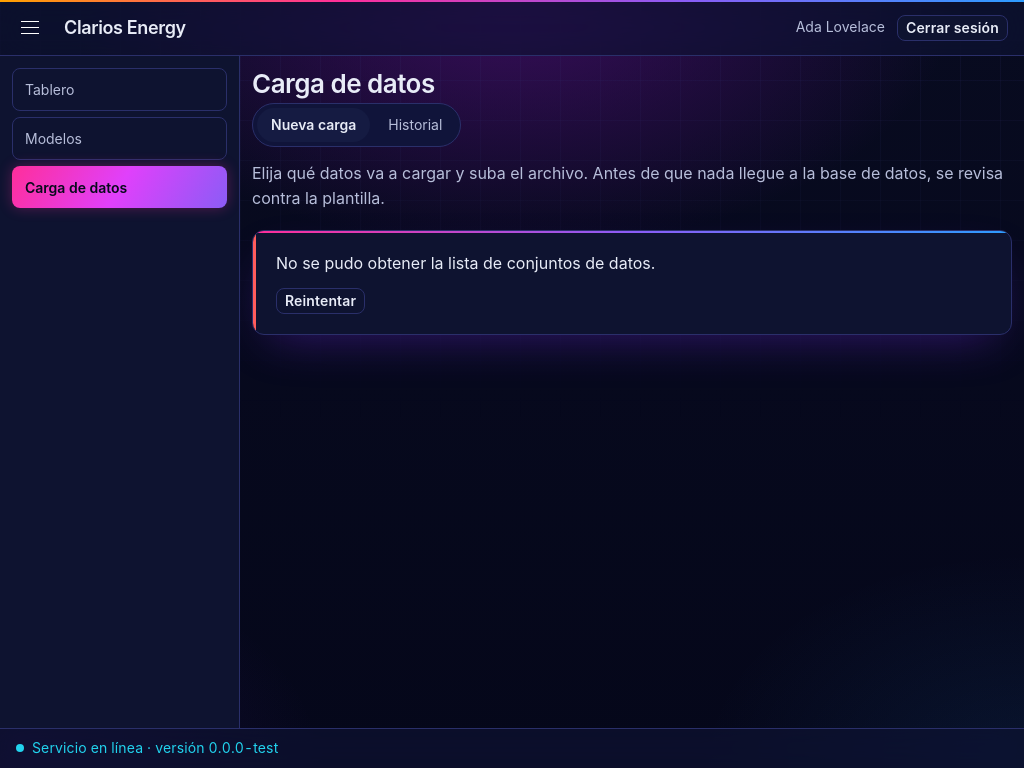
Scenario: choosing what to load › says so when the list of datasets cannot be read, and retries
Expected: the text "No se pudo obtener la lista de conjuntos de datos." is shown, x1=276 y1=252 x2=655 y2=276
Click the button "Reintentar" at (321, 301), box x1=276 y1=288 x2=365 y2=314
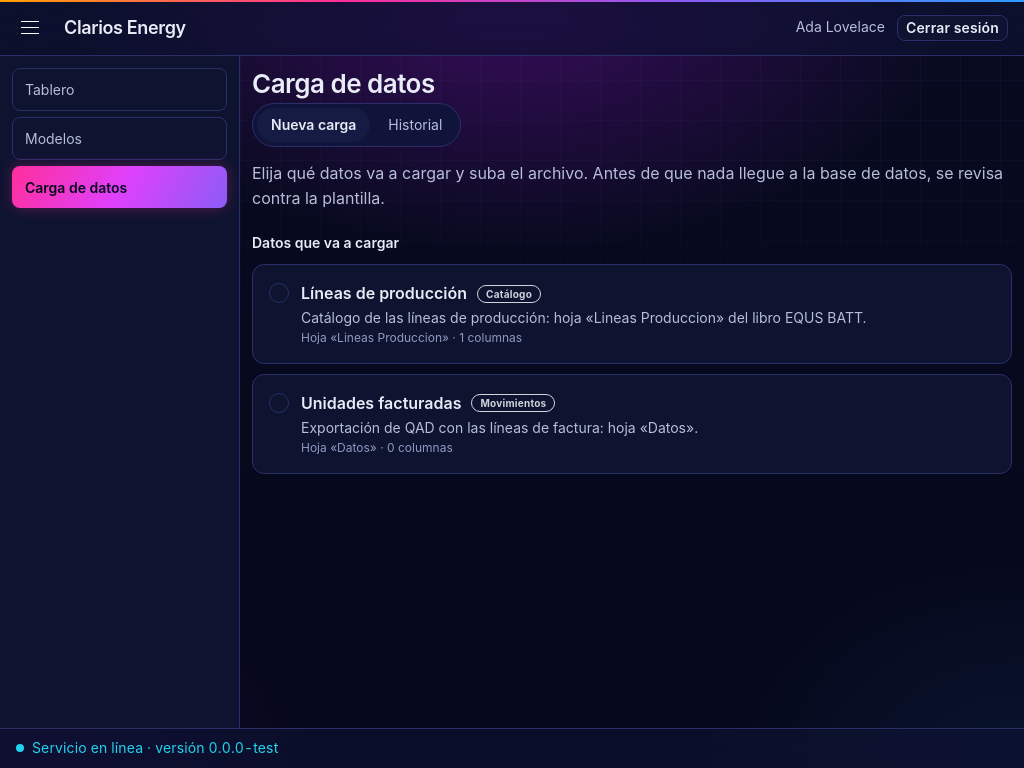
Expected: the number of radio buttons is 2, x1=252 y1=264 x2=1012 y2=364; x1=252 y1=374 x2=1012 y2=474
